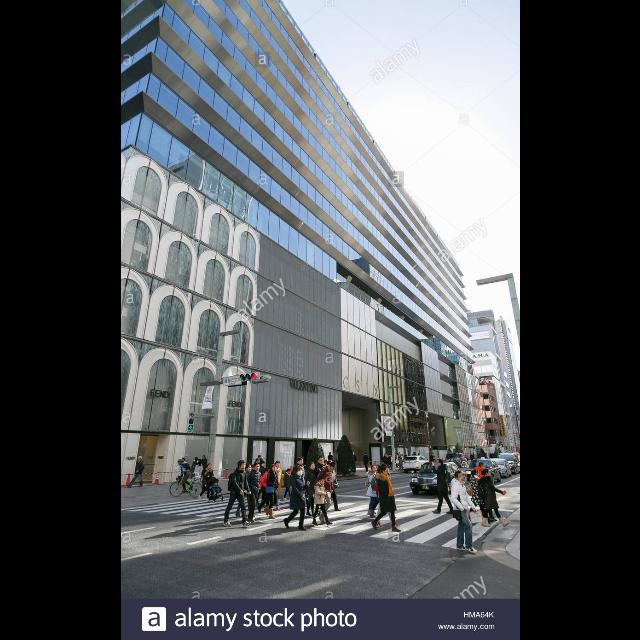head: (454, 471, 464, 483), (482, 468, 491, 478), (327, 462, 335, 473), (237, 460, 245, 470), (294, 466, 302, 476), (380, 466, 388, 476), (252, 463, 260, 472), (244, 464, 252, 472), (326, 460, 334, 468), (472, 469, 480, 477), (478, 462, 486, 470), (309, 462, 315, 472), (318, 456, 324, 466), (318, 476, 324, 486), (369, 465, 376, 473), (379, 464, 386, 472), (271, 464, 277, 472), (274, 460, 280, 468), (297, 458, 303, 466), (436, 459, 442, 467), (136, 456, 142, 462), (176, 459, 182, 465), (206, 464, 212, 470), (259, 461, 265, 467), (212, 482, 218, 486), (196, 458, 200, 464), (201, 454, 205, 460), (266, 467, 270, 473), (286, 468, 290, 474), (181, 458, 185, 462), (194, 458, 198, 462), (352, 452, 356, 456), (258, 456, 260, 460), (364, 452, 366, 456), (384, 454, 386, 458), (328, 453, 330, 455), (430, 453, 432, 455), (400, 458, 402, 460), (469, 454, 471, 456)
person: (449, 470, 479, 554), (368, 464, 402, 534), (476, 468, 512, 528), (221, 459, 251, 529), (370, 463, 400, 529), (282, 464, 310, 532), (464, 468, 496, 526), (472, 461, 498, 522), (430, 457, 456, 515), (312, 462, 336, 524), (234, 462, 256, 518), (311, 475, 334, 527), (244, 462, 262, 522), (262, 464, 280, 520), (362, 465, 380, 519), (312, 456, 328, 516), (256, 464, 274, 516), (290, 457, 308, 509), (323, 460, 341, 512), (302, 461, 318, 519), (270, 460, 284, 512), (175, 458, 193, 496), (198, 463, 215, 502), (126, 455, 144, 489), (255, 460, 267, 508), (172, 457, 188, 487), (281, 468, 293, 502), (189, 456, 201, 486), (192, 458, 204, 486), (253, 454, 265, 482), (198, 454, 208, 486), (208, 481, 220, 497), (349, 451, 357, 471), (326, 452, 334, 468), (362, 452, 368, 473), (382, 453, 388, 472), (428, 452, 436, 466), (397, 456, 403, 472), (468, 453, 474, 465)
